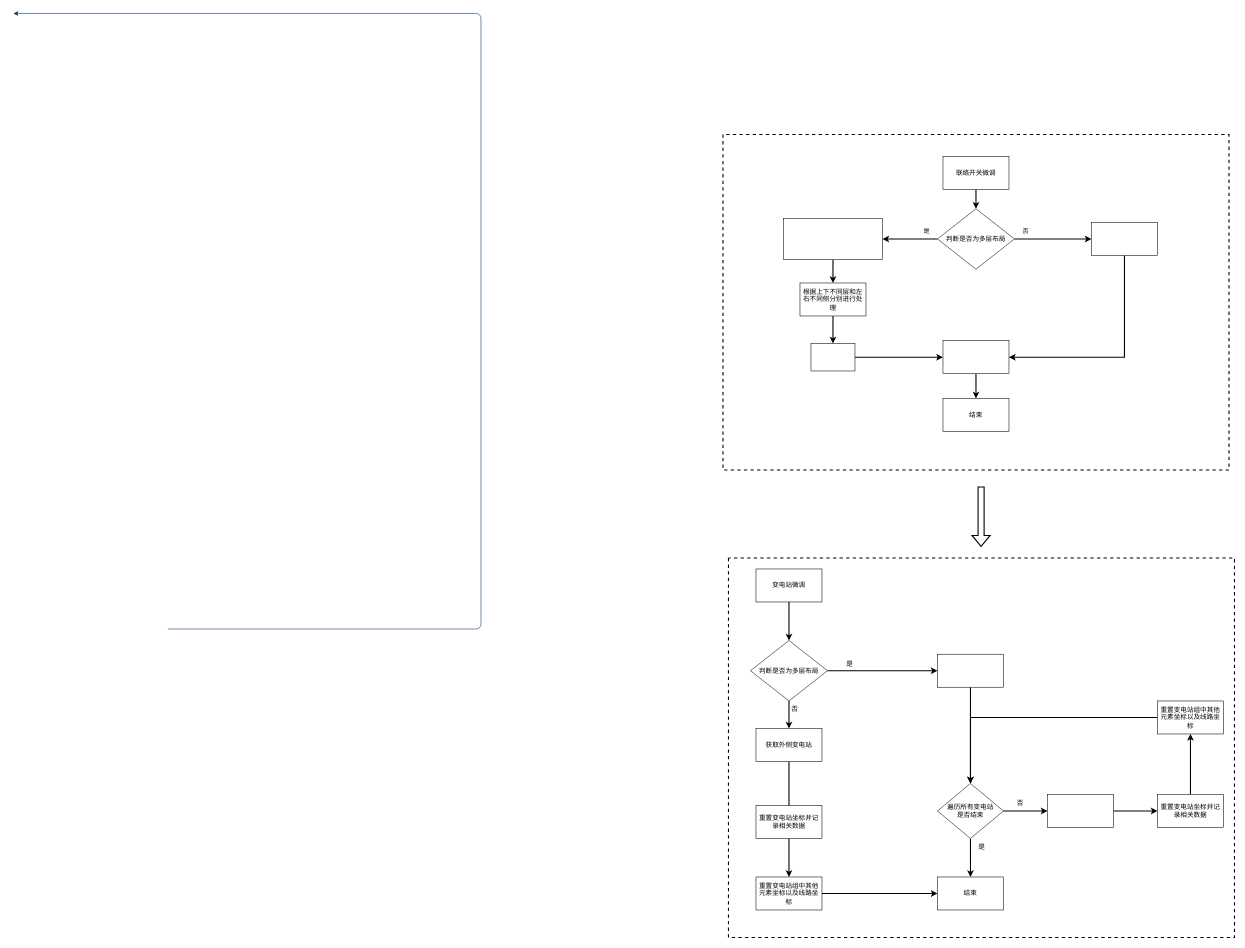
Image size: 1245x948. Some labels were removed from this diagram. The box of each missing label's shape, as (x1, y1, x2, y2) in pixels:
根据上下位置间距进行微调: (1091, 222, 1157, 255)
根据联络关系进行分组排序，分成上外层、上内层、下内层、下外层、左侧同侧层、左侧乱层、右侧同侧层、右侧乱层: (783, 218, 882, 260)
计算偏移: (937, 654, 1003, 687)
计算变电站位置: (1047, 794, 1113, 827)
计算得出offset、x、y、width: (810, 343, 855, 371)
重置联络开关坐标并记录相关数据: (942, 340, 1009, 374)
